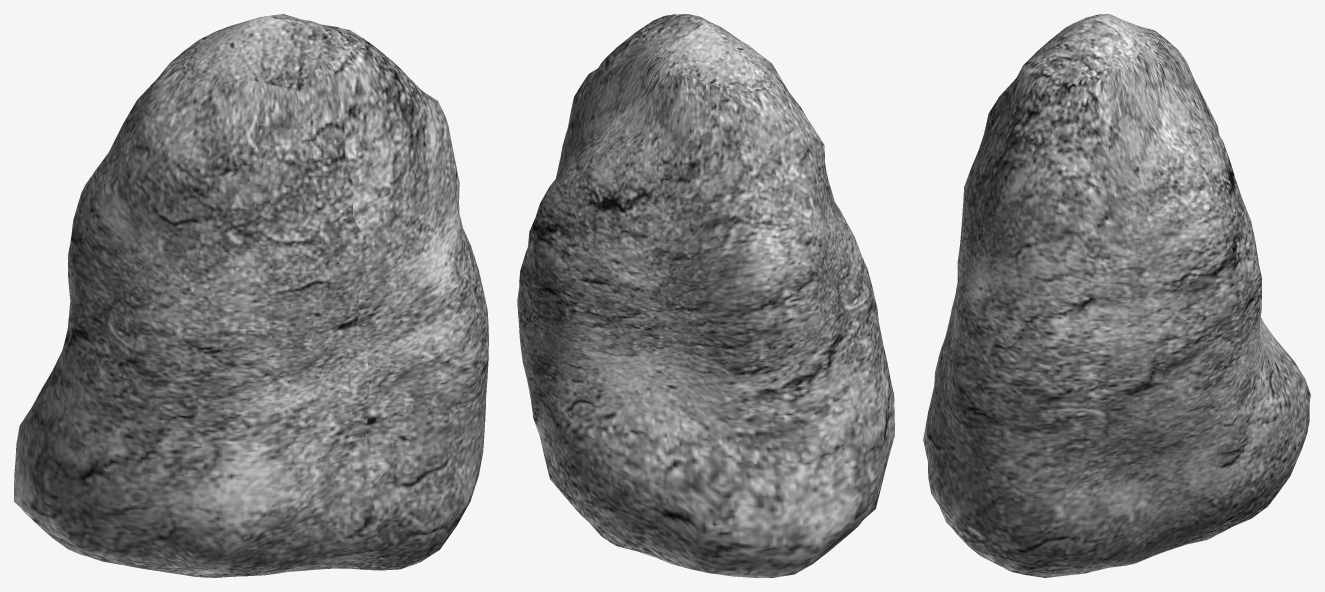
File: rock-2.glb
3 renders of one model, left to right at view 1: azimuth 30°, elevation 25°; view 2: azimuth 150°, elevation 25°; view 3: azimuth 270°, elevation 25°, orthographic. The views are drawn at different scales.
Visible parts, largest first — view 1: Icosphere; view 2: Icosphere; view 3: Icosphere.
Part boxes in pixels (x1,y1,x2,y2): Icosphere: (14,14,488,577); Icosphere: (517,14,894,577); Icosphere: (923,14,1310,577).
Bounding box in the file's own units: 2.91 × 3.85 × 2.63.
3 materials, 3 textured.
